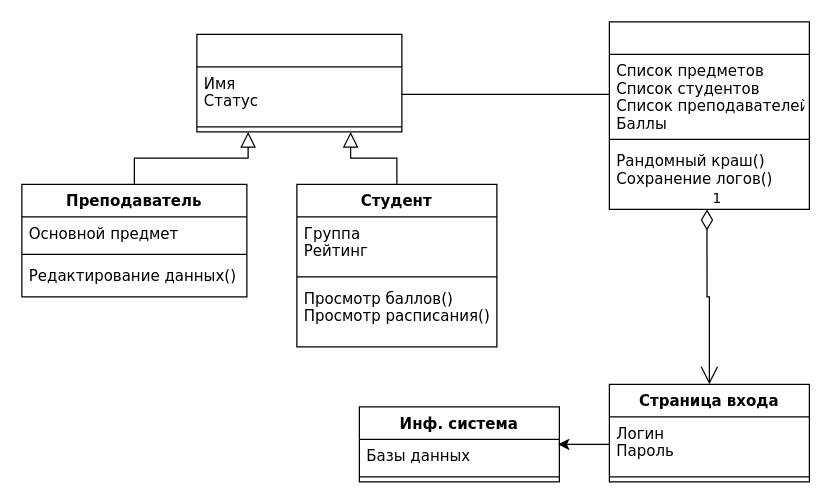
The diagram is 831 pixels wide and 504 high, and some of its shapes have lost their labels. The box of each missing label's shape, as (x1, y1, x2, y2) in pixels:
Пользователь: (196, 33, 402, 132)
Электронный журнал: (608, 21, 809, 209)
